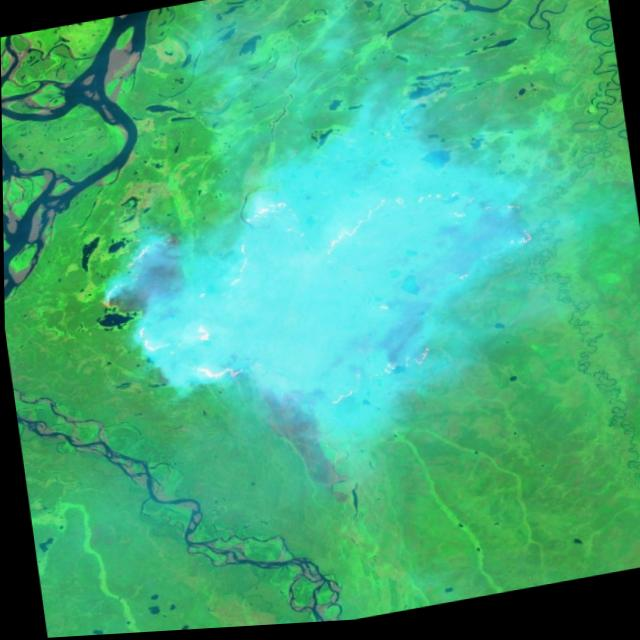fire: (68, 92, 570, 520)
